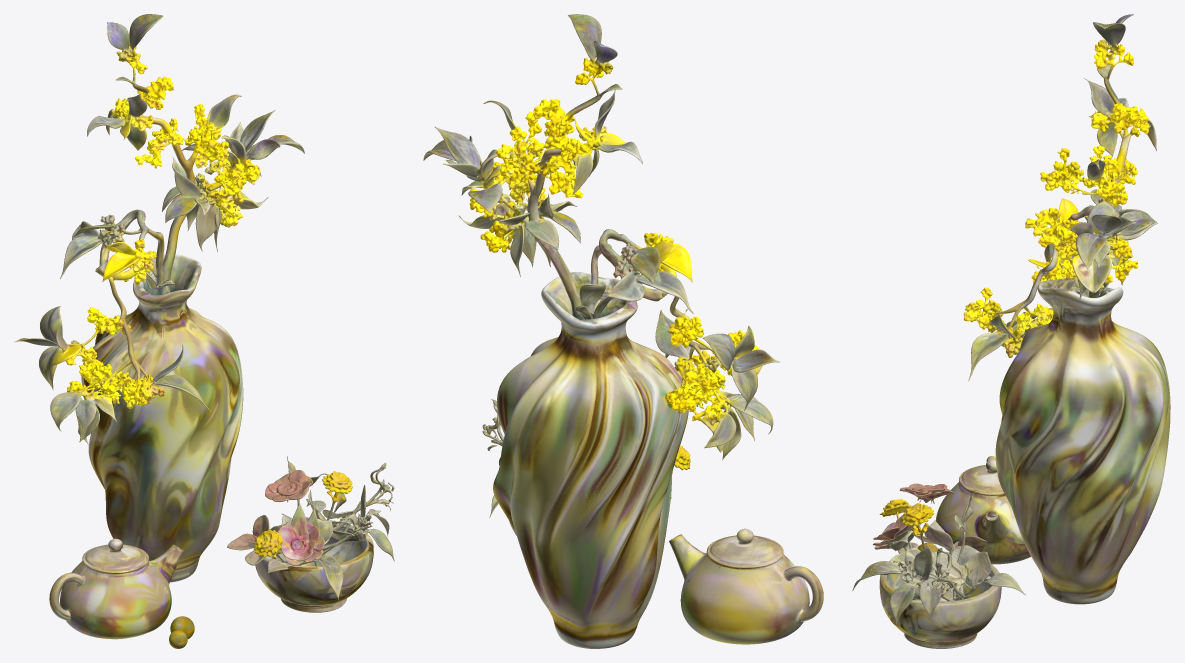
File: Meshy_AI_1111_0426125038_texture-v6.glb
The picture shows the model from 3 angles, left to right: view 1: azimuth 30°, elevation 25°; view 2: azimuth 150°, elevation 25°; view 3: azimuth 270°, elevation 25°; orthographic projection. The views are drawn at different scales.
Parts seen in each view (by area): view 1: Mesh_0.002; view 2: Mesh_0.002; view 3: Mesh_0.002.
Part boxes in pixels (x1,y1,x2,y2): Mesh_0.002: (14,14,394,648); Mesh_0.002: (423,14,823,648); Mesh_0.002: (852,14,1170,648).
Size of the model in its own units: 0.612 by 1 by 0.5033.
Materials: 1 (1 with a texture image).
